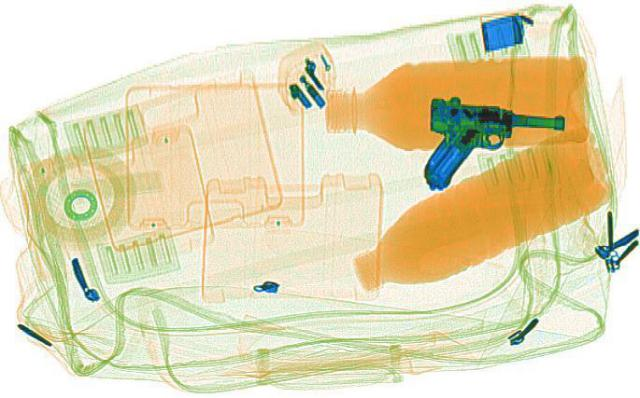Gun: (404, 92, 568, 199)
